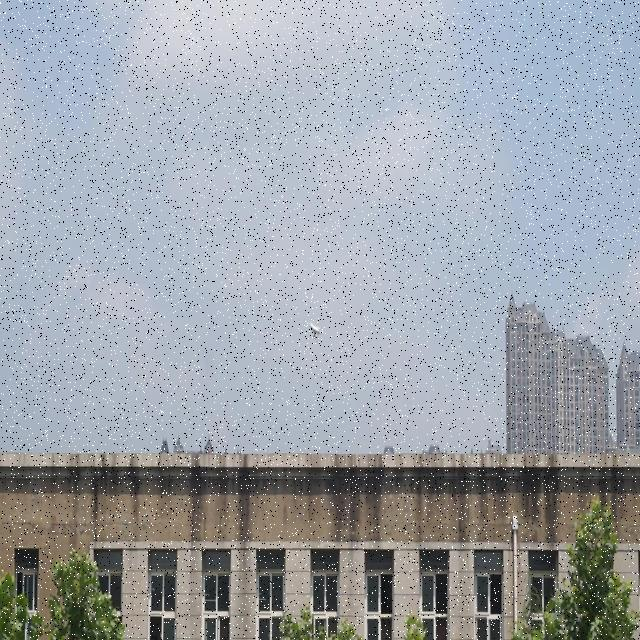UAV: (305, 320, 324, 343)
